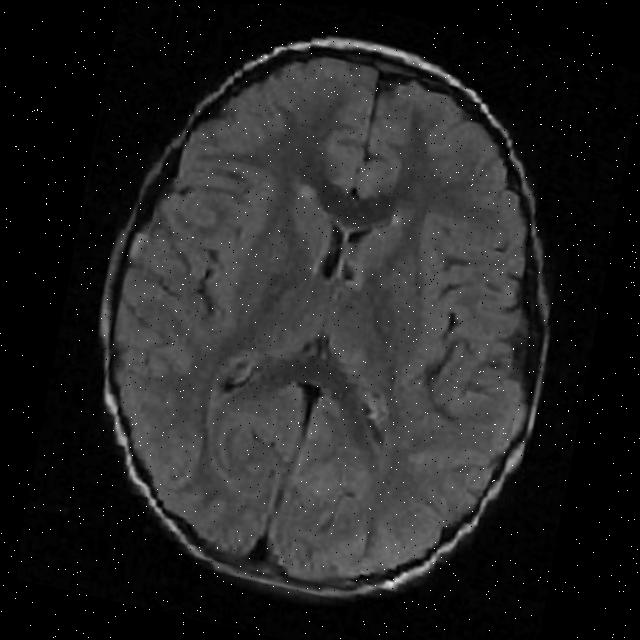NoTumor: (53, 12, 602, 630)
